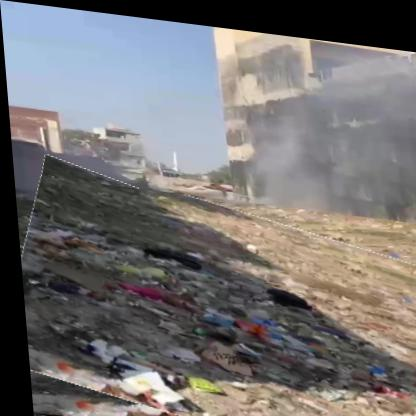Garbage: (12, 174, 416, 416)
